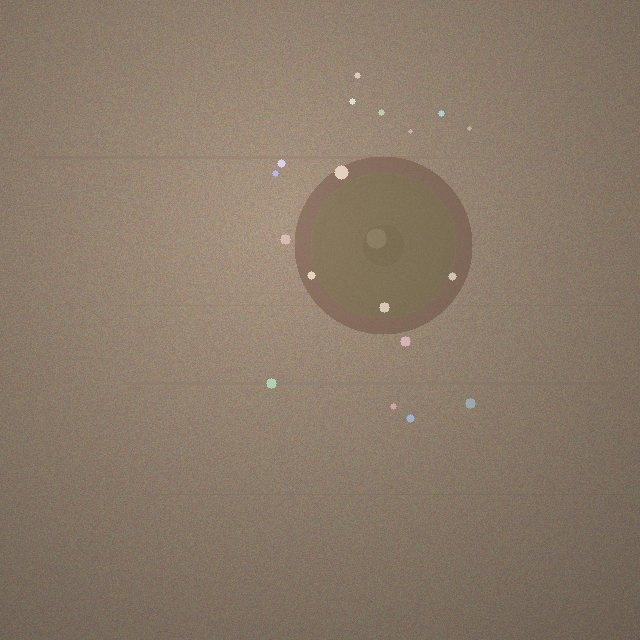overburn: (294, 156, 472, 334)
